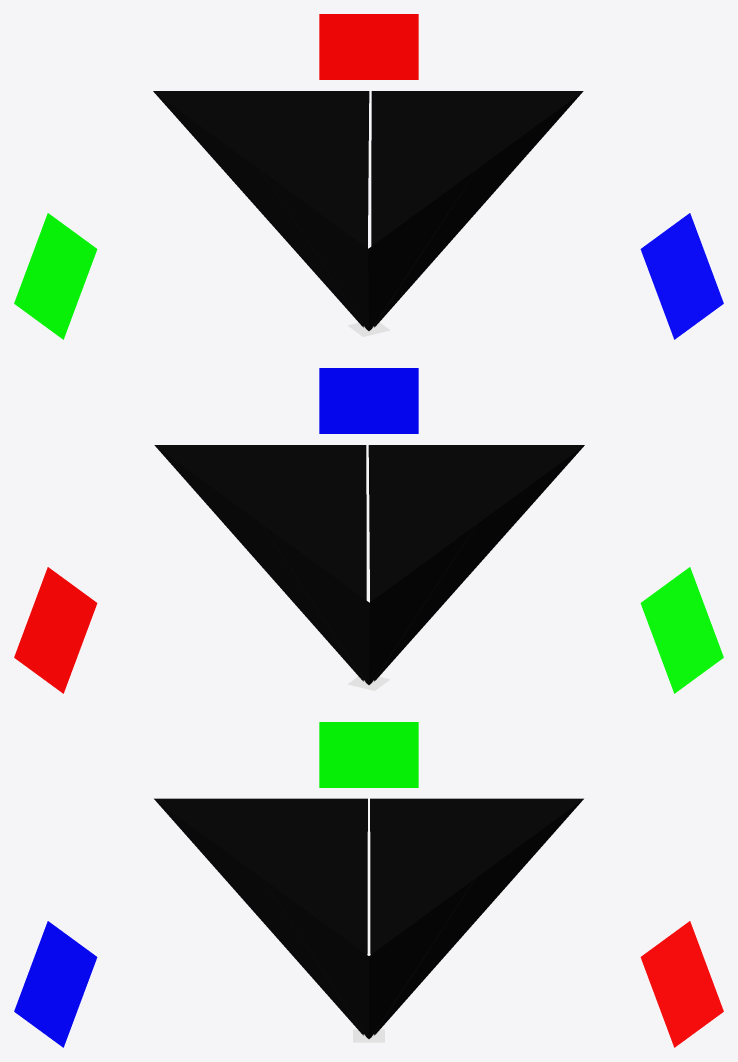
File: additive-light.glb
The picture shows the model from 3 angles, top to bottom: view 1: azimuth 30°, elevation 25°; view 2: azimuth 150°, elevation 25°; view 3: azimuth 270°, elevation 25°; orthographic projection.
Visible parts, largest first — view 1: cover, led, led.001, led.002; view 2: cover, led.002, led, led.001; view 3: cover, led.001, led, led.002.
Part boxes in pixels (x1=…): cover: x1=153, y1=91, x2=583, y2=330; led: x1=319, y1=14, x2=418, y2=79; led.001: x1=14, y1=213, x2=97, y2=339; led.002: x1=640, y1=213, x2=723, y2=339; cover: x1=154, y1=445, x2=584, y2=684; led.002: x1=319, y1=368, x2=418, y2=433; led: x1=14, y1=567, x2=97, y2=693; led.001: x1=640, y1=567, x2=723, y2=693; cover: x1=154, y1=798, x2=583, y2=1038; led.001: x1=319, y1=722, x2=418, y2=787; led: x1=640, y1=921, x2=723, y2=1047; led.002: x1=14, y1=921, x2=97, y2=1047.
Bounding box in the file's own units: 79.25 × 25.64 × 89.43.
